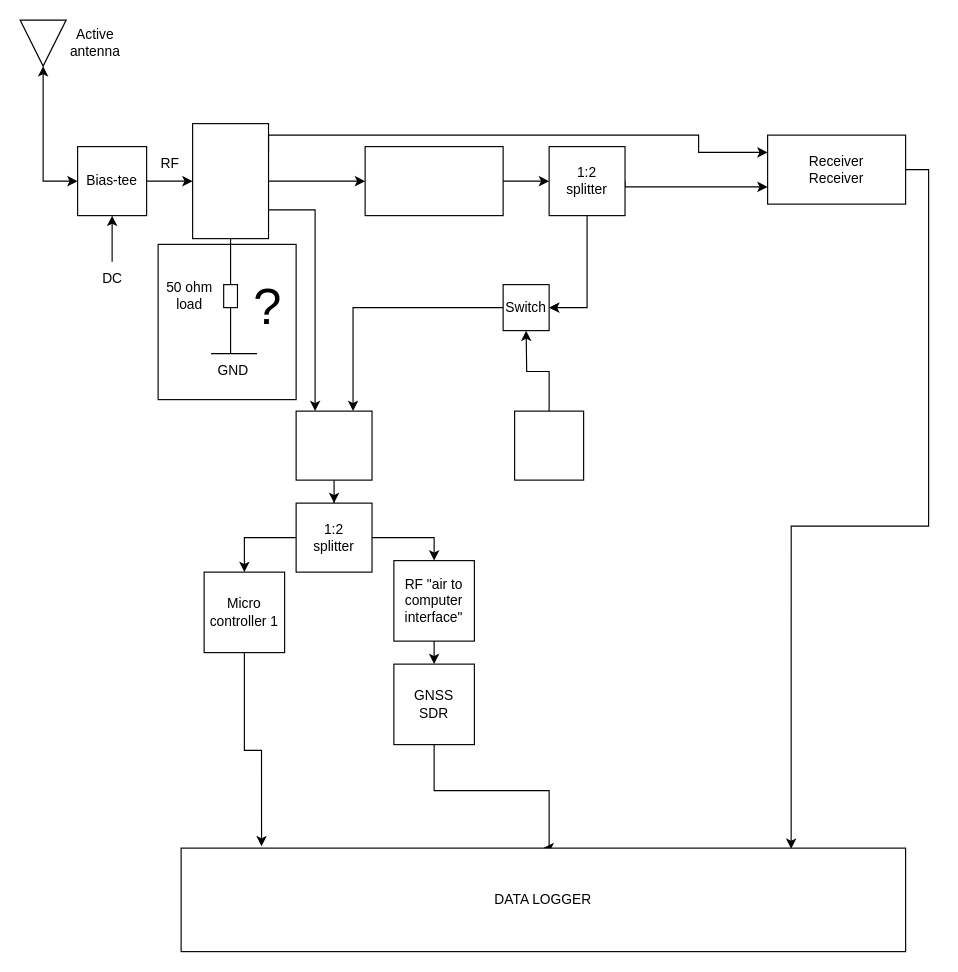
This 958x972 diagram has some shape labels left out. Here are the shapes that lost their labels. From the top down, the centre of each, then its label:
At point (230, 180): "1:4 splitter".
At point (433, 180): "Attacker".
At point (333, 445): "2:1 combiner".
At point (548, 445): "Micro controller 2".
